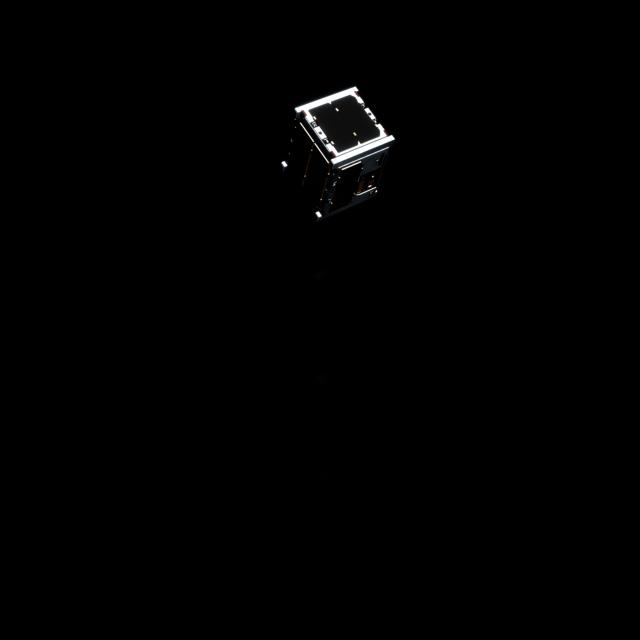satellite: (282, 88, 398, 224)
